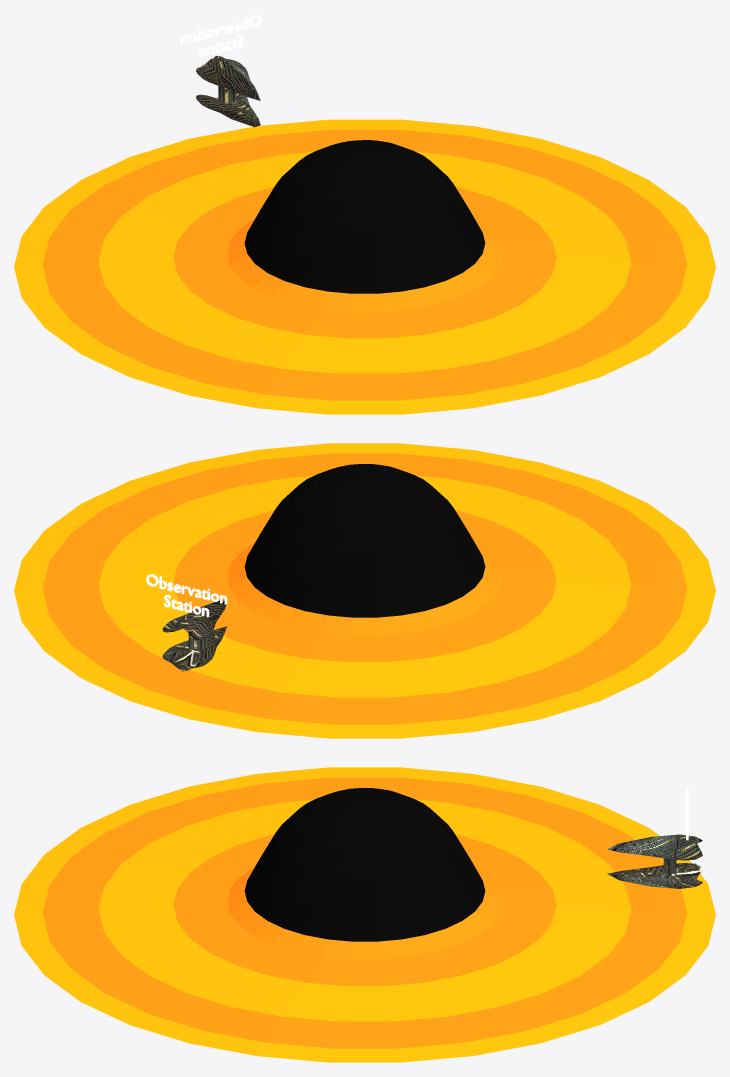
Rendered from blackHole.glb.
3 renders of one model, top to bottom at view 1: azimuth 30°, elevation 25°; view 2: azimuth 150°, elevation 25°; view 3: azimuth 270°, elevation 25°, orthographic.
Parts seen in each view (by area): view 1: Sphere, Cube.002, Text; view 2: Sphere, Cube.002, Text; view 3: Sphere, Cube.002.
Boxes of the visible parts, x1,y1,x2,y2 form: Sphere: (14,119,715,414); Cube.002: (196,56,260,127); Text: (180,14,261,57); Sphere: (14,443,715,738); Cube.002: (162,600,226,671); Text: (146,574,227,617); Sphere: (14,767,715,1062); Cube.002: (607,834,702,888).
Bounding box in the file's own units: 25.38 × 9.93 × 25.52.
Materials: 5 (1 with a texture image).
